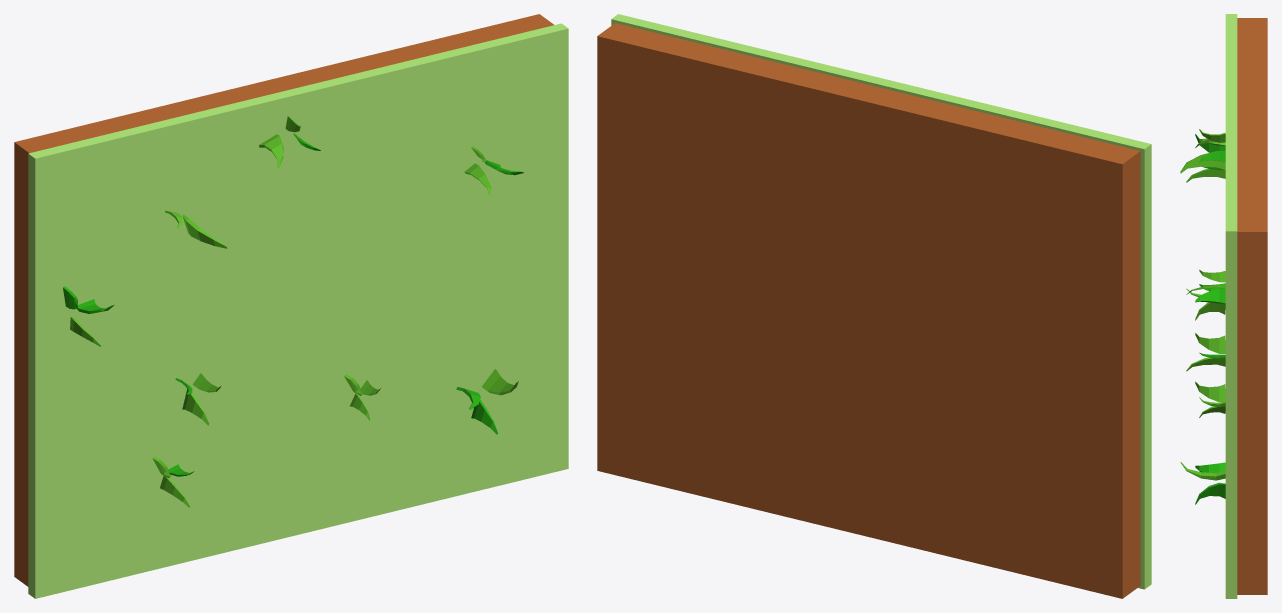
The model's file is landuse.gltf.
The picture shows the model from 3 angles, left to right: view 1: azimuth 30°, elevation 25°; view 2: azimuth 150°, elevation 25°; view 3: azimuth 270°, elevation 25°; orthographic projection. The views are drawn at different scales.
Parts seen in each view (by area): view 1: Cube.007, Cube; view 2: Cube, Cube.007; view 3: Cube, Cube.007, Cube.340, Cube.109, Cube.309, Cube.027, Cube.258, Cube.124, Cube.200, Cube.240, Cube.036, Cube.067 (+5 smaller).
Part boxes in pixels (x1,y1,x2,y2): Cube.007: (28, 23, 568, 598); Cube: (14, 14, 553, 586); Cube: (597, 23, 1140, 598); Cube.007: (611, 14, 1151, 589); Cube: (1237, 18, 1267, 594); Cube.007: (1225, 14, 1237, 598); Cube.340: (1180, 151, 1225, 173); Cube.109: (1195, 333, 1225, 353); Cube.309: (1195, 381, 1225, 402); Cube.027: (1195, 288, 1225, 304); Cube.258: (1195, 482, 1225, 504); Cube.124: (1180, 462, 1225, 480); Cube.200: (1186, 169, 1225, 182); Cube.240: (1195, 302, 1225, 320); Cube.036: (1195, 462, 1225, 472); Cube.067: (1186, 357, 1225, 371).
Size of the model in its own units: 2.03 by 1.6 by 0.3437.
